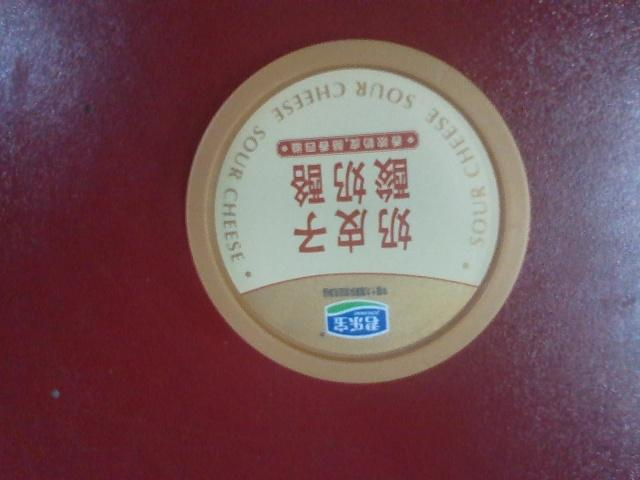lid: (173, 31, 550, 387)
